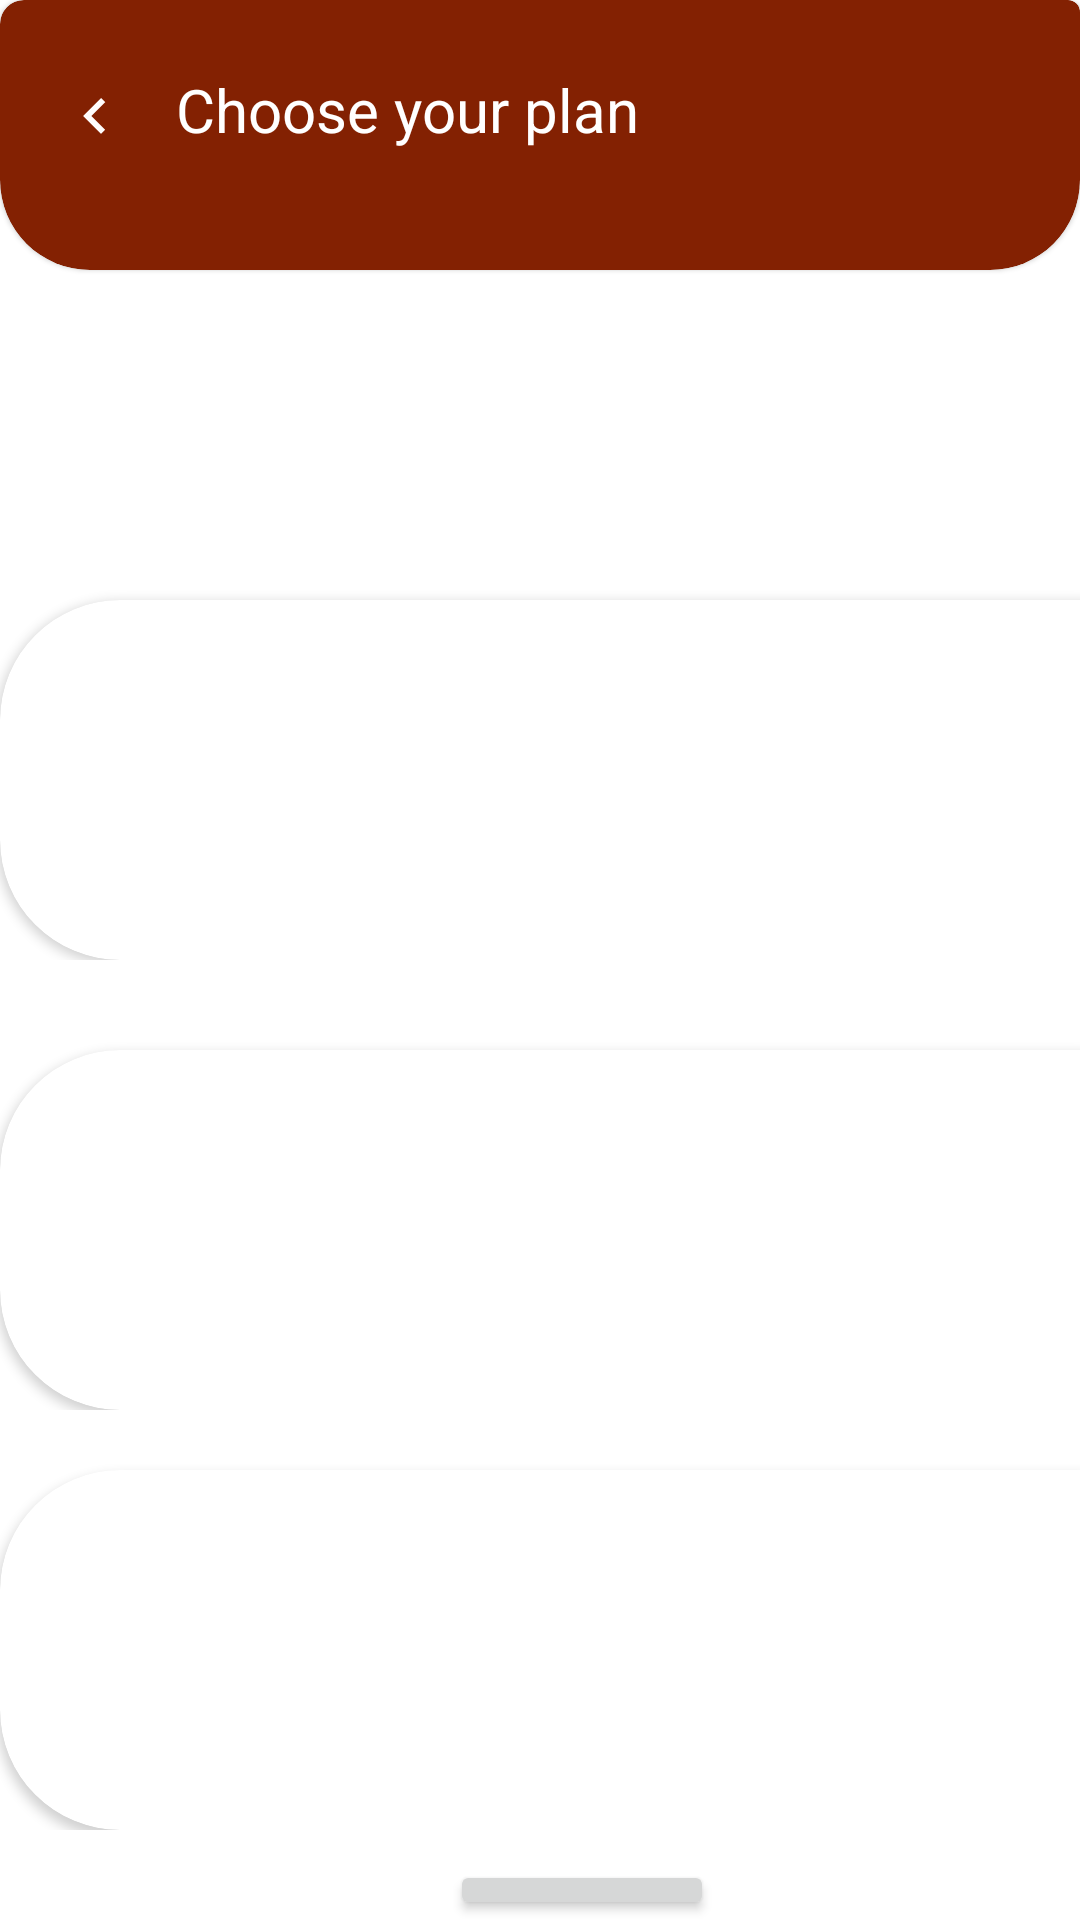

Screen size 1080x1920. Icon name, then its box in pixels as (x1, y1, x2, y2):
keyboard arrow left: (83, 98, 105, 134)
